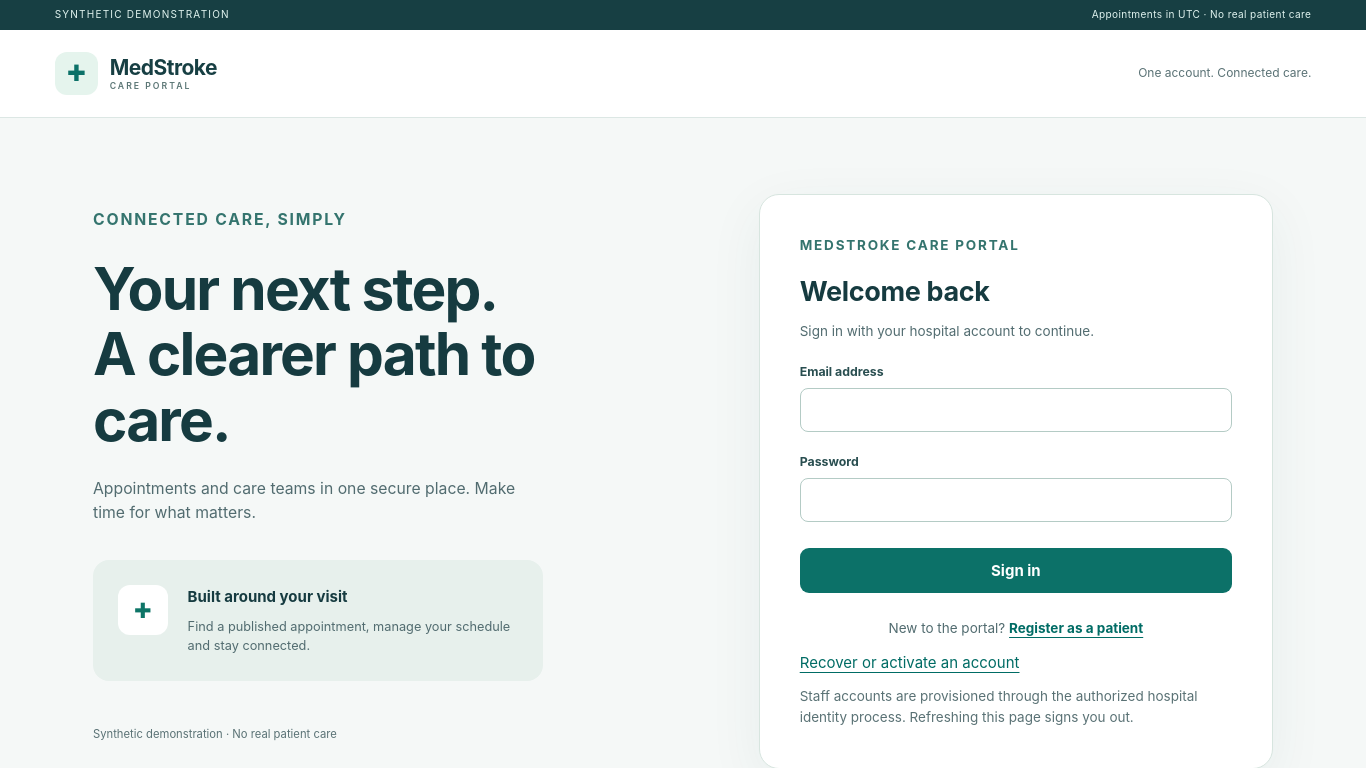
Test: technicians do not fetch appointment or clinical data
This screenshot has width=1366, height=768.
Type "synthetic@example.test" into the field labelled "Email address". click: [1016, 410]
box: [800,388,1232,432]
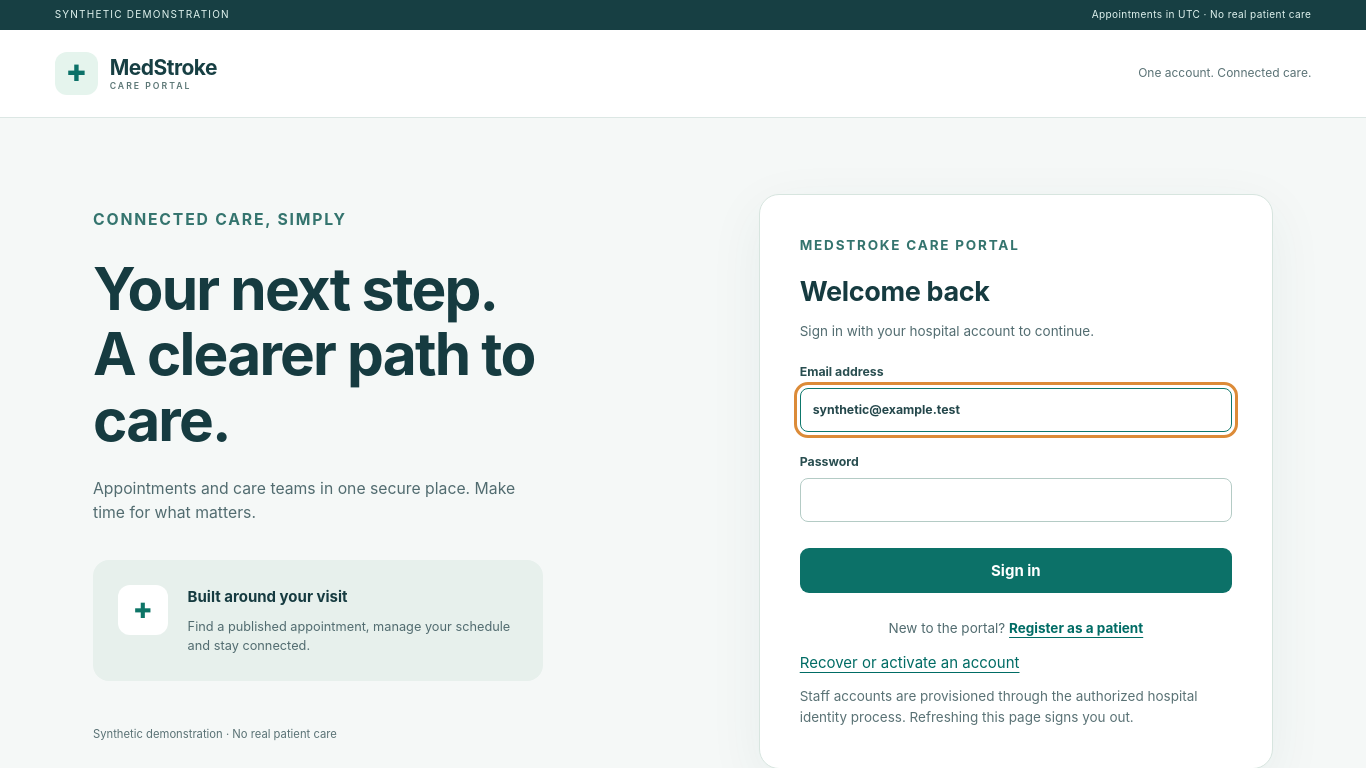
Type "Synthetic-password" into the password field labelled "Password". click: [1016, 500]
box: [800,478,1232,522]
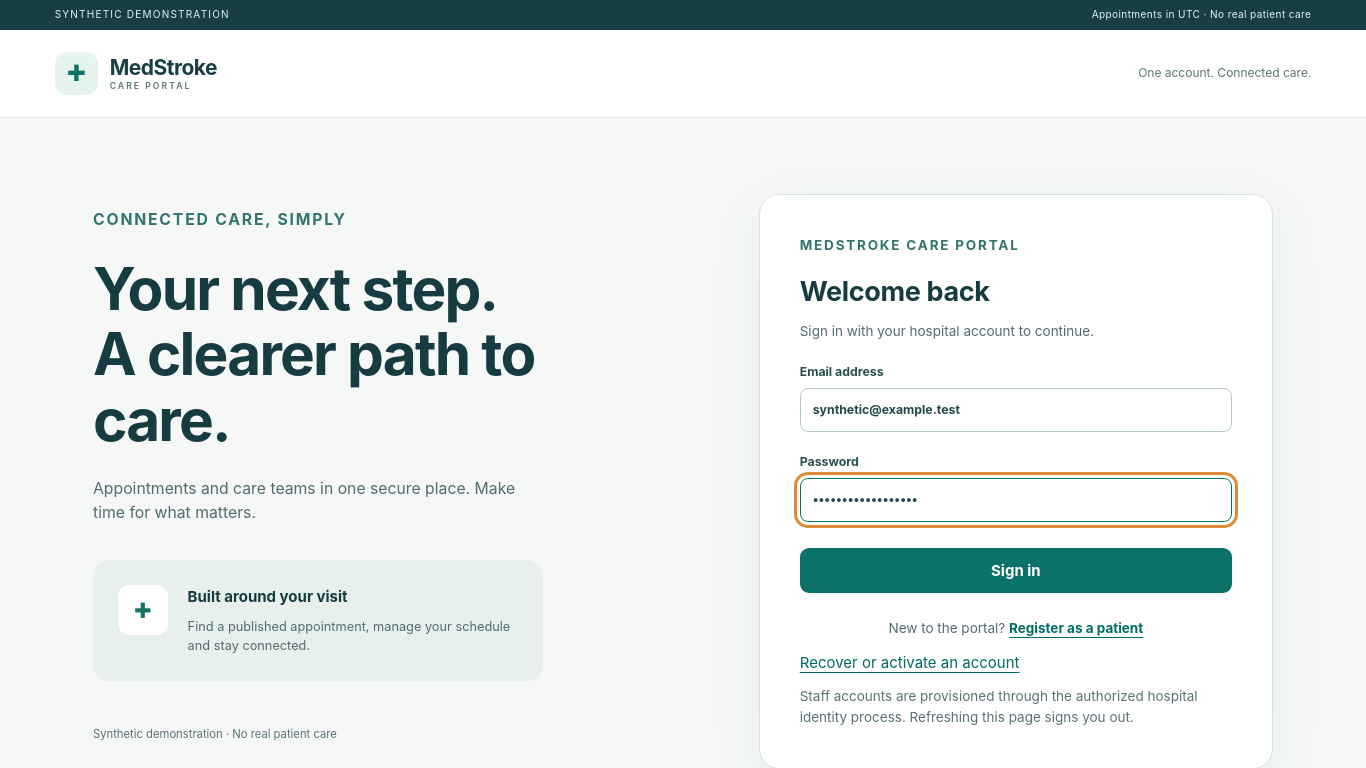
Click the button "Sign in". click: [1016, 571]
box: [800,548,1232,593]
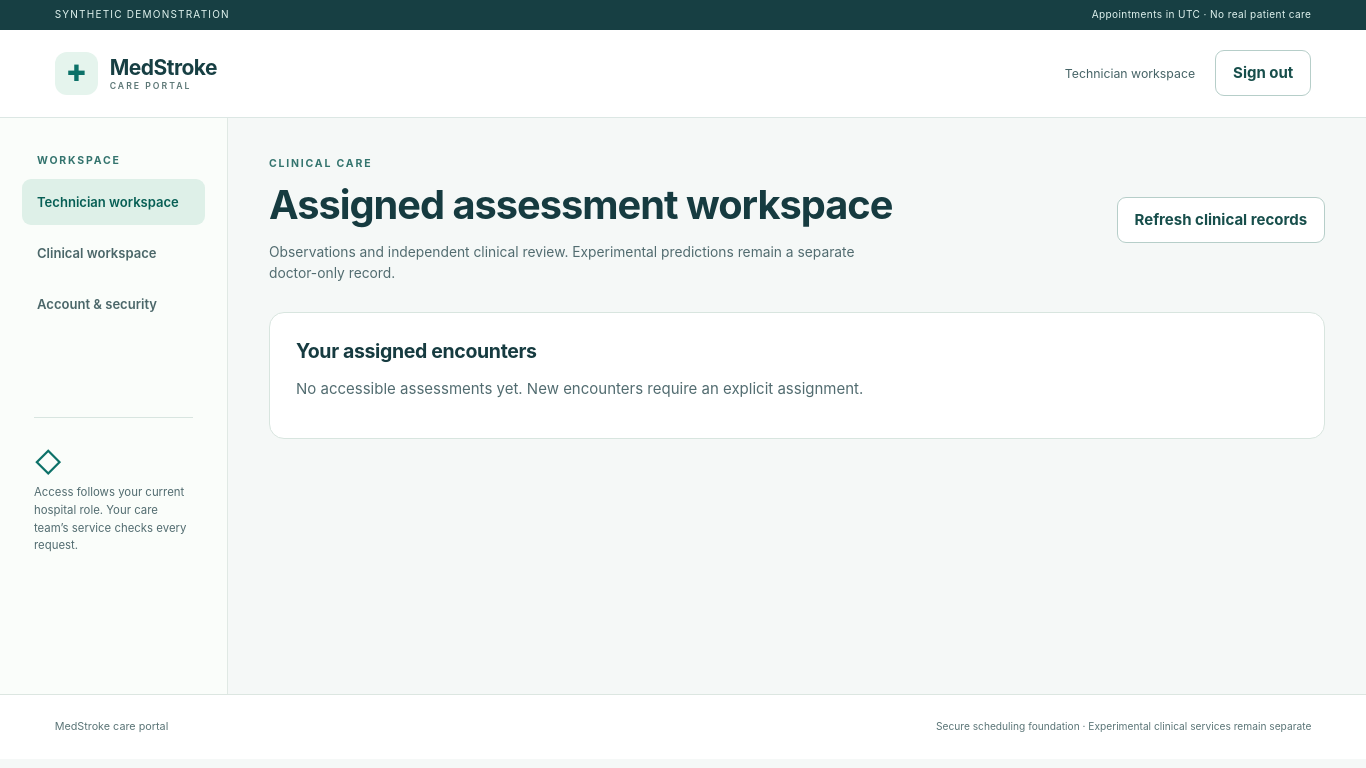
Check: the heading "Assigned assessment workspace" is shown, box [269,182,892,228]
